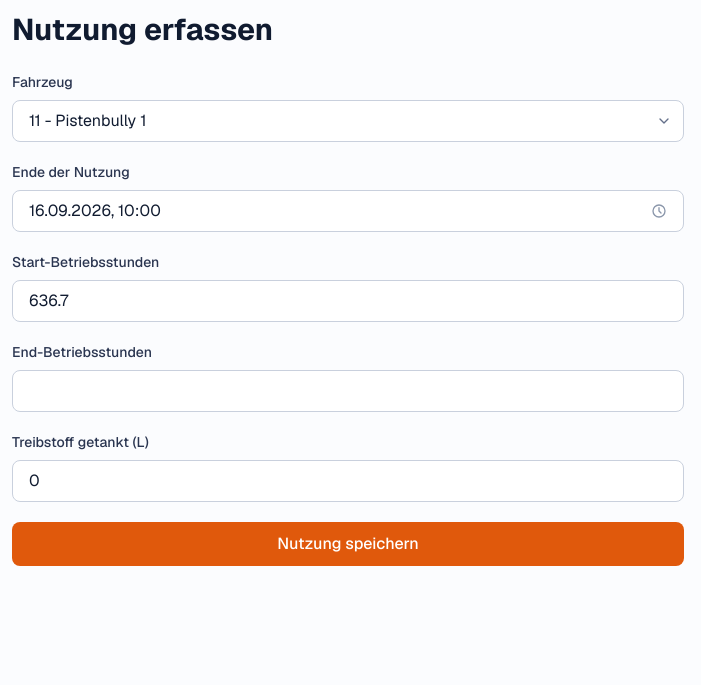
Test: Nutzung erfassen › input validation › shows a specific "must not be negative" error under the Start field
Check: the number field with id "startOperatingHours" is enabled, box [12,280,684,322]
Check: the number field with id "startOperatingHours" is not empty, box [12,280,684,322]
Type "700" into the number field with id "endOperatingHours" at (348, 391), box [12,370,684,412]
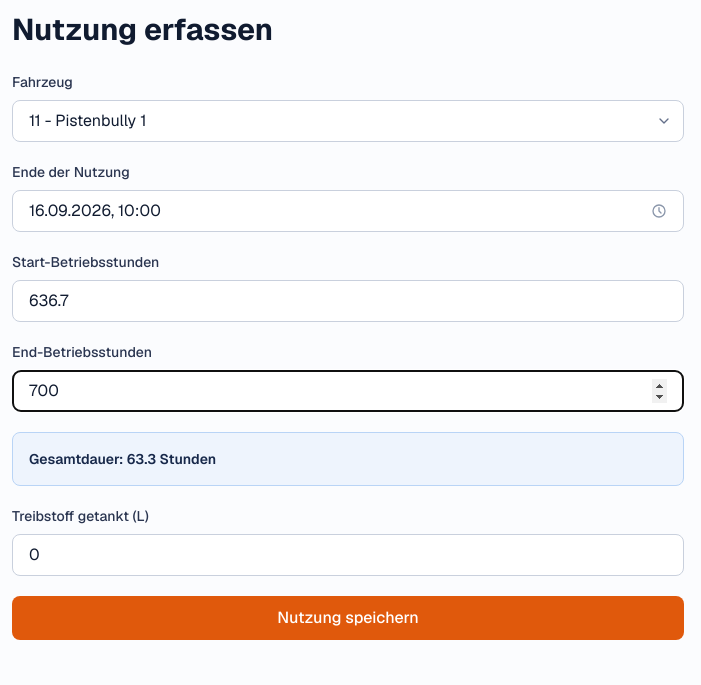
Replace the text in the number field with id "startOperatingHours" with "-5" at (348, 301), box [12,280,684,322]
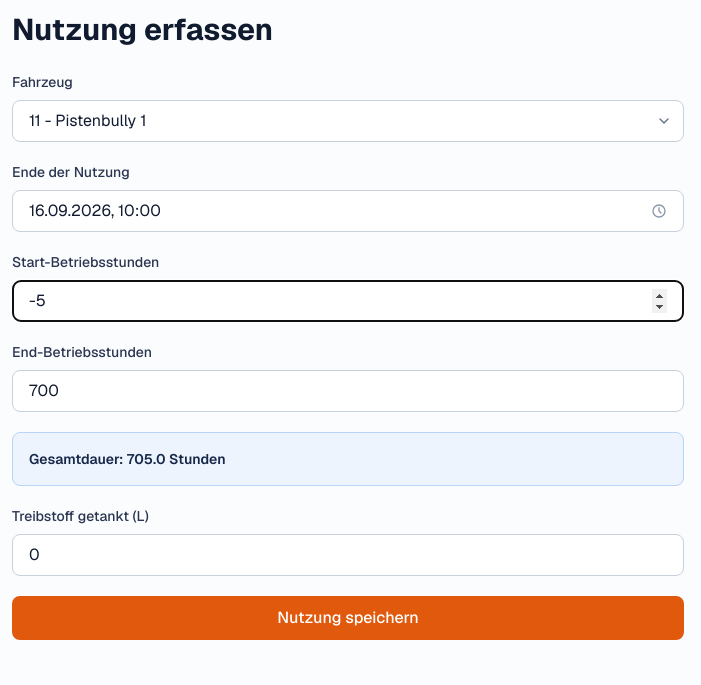
Submit the form
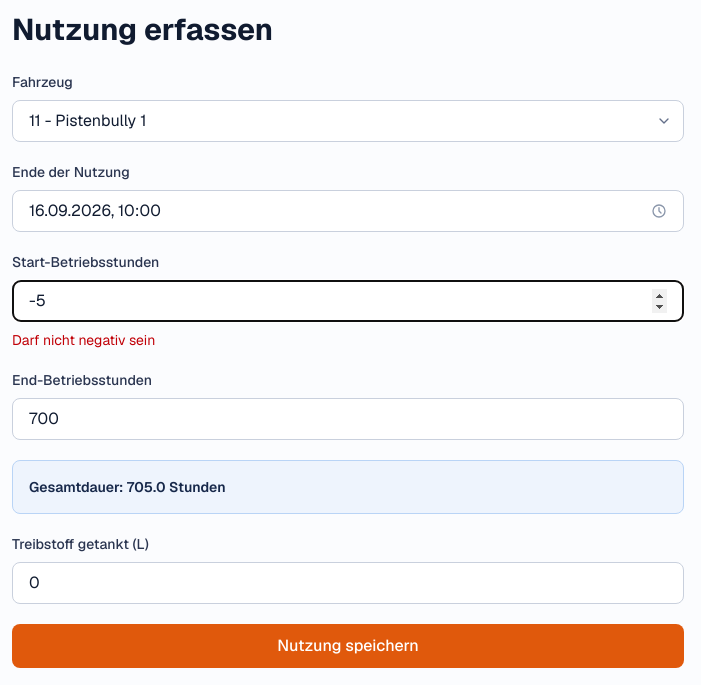
Check: the text "Darf nicht negativ sein" is shown once, box [12,331,156,349]
